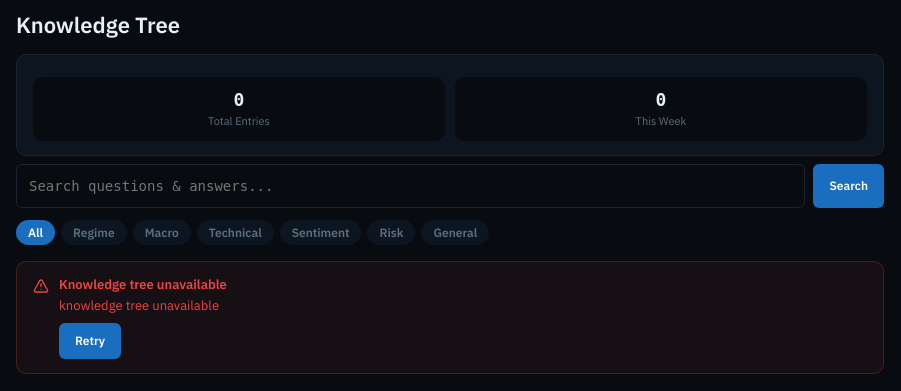
Knowledge view async data › shows an error state on failure and refetches on retry
Expected: the text "knowledge tree unavailable" is shown, [59,297,219,314]
Click the button "Retry" at point(90, 341), box [59,323,121,359]
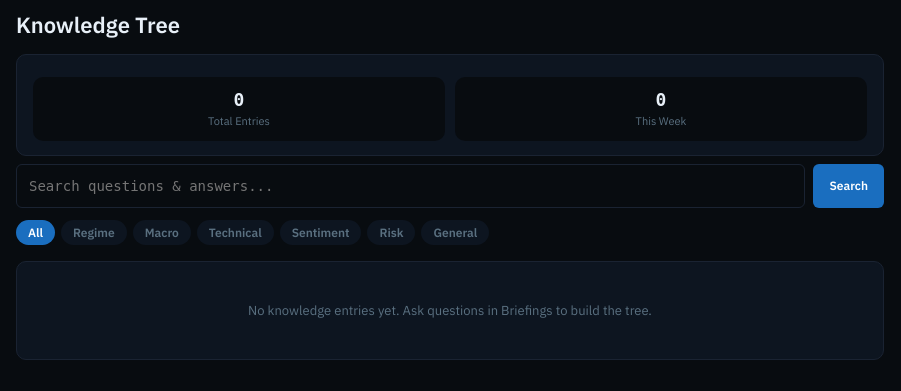
Expected: the text "Knowledge tree unavailable" is gone
